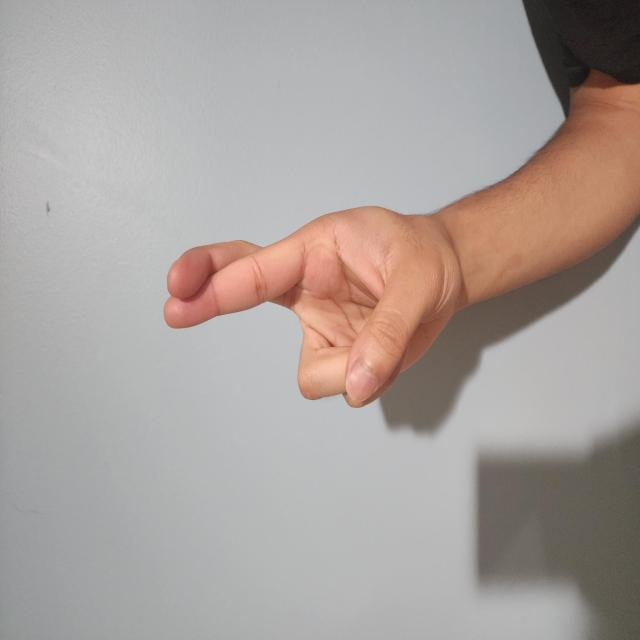R: (170, 213, 330, 625)
